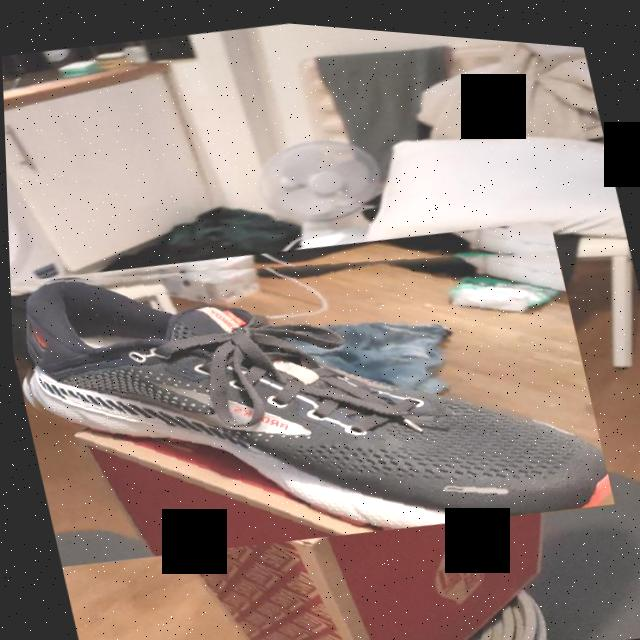shoe: (5, 176, 614, 601)
